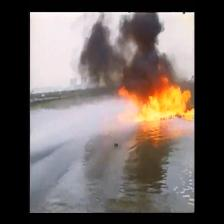fire: (135, 92, 189, 118)
smoke: (128, 15, 167, 91), (87, 27, 120, 82)
